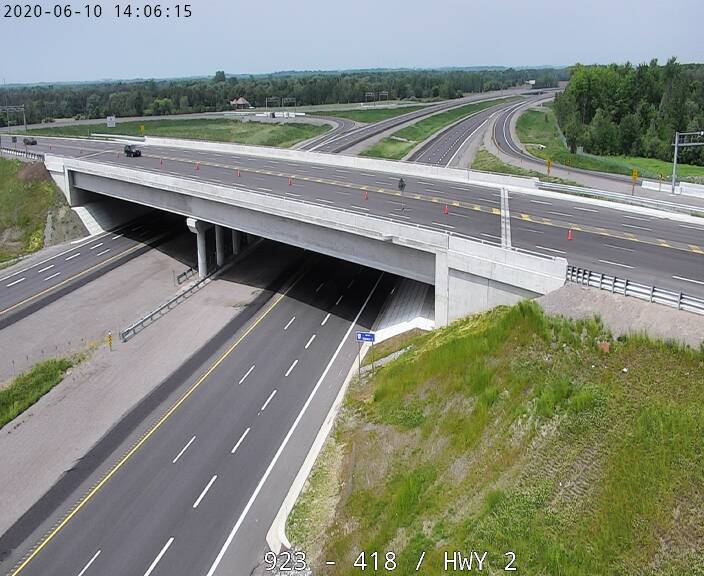time_stamp: (1, 1, 201, 23)
